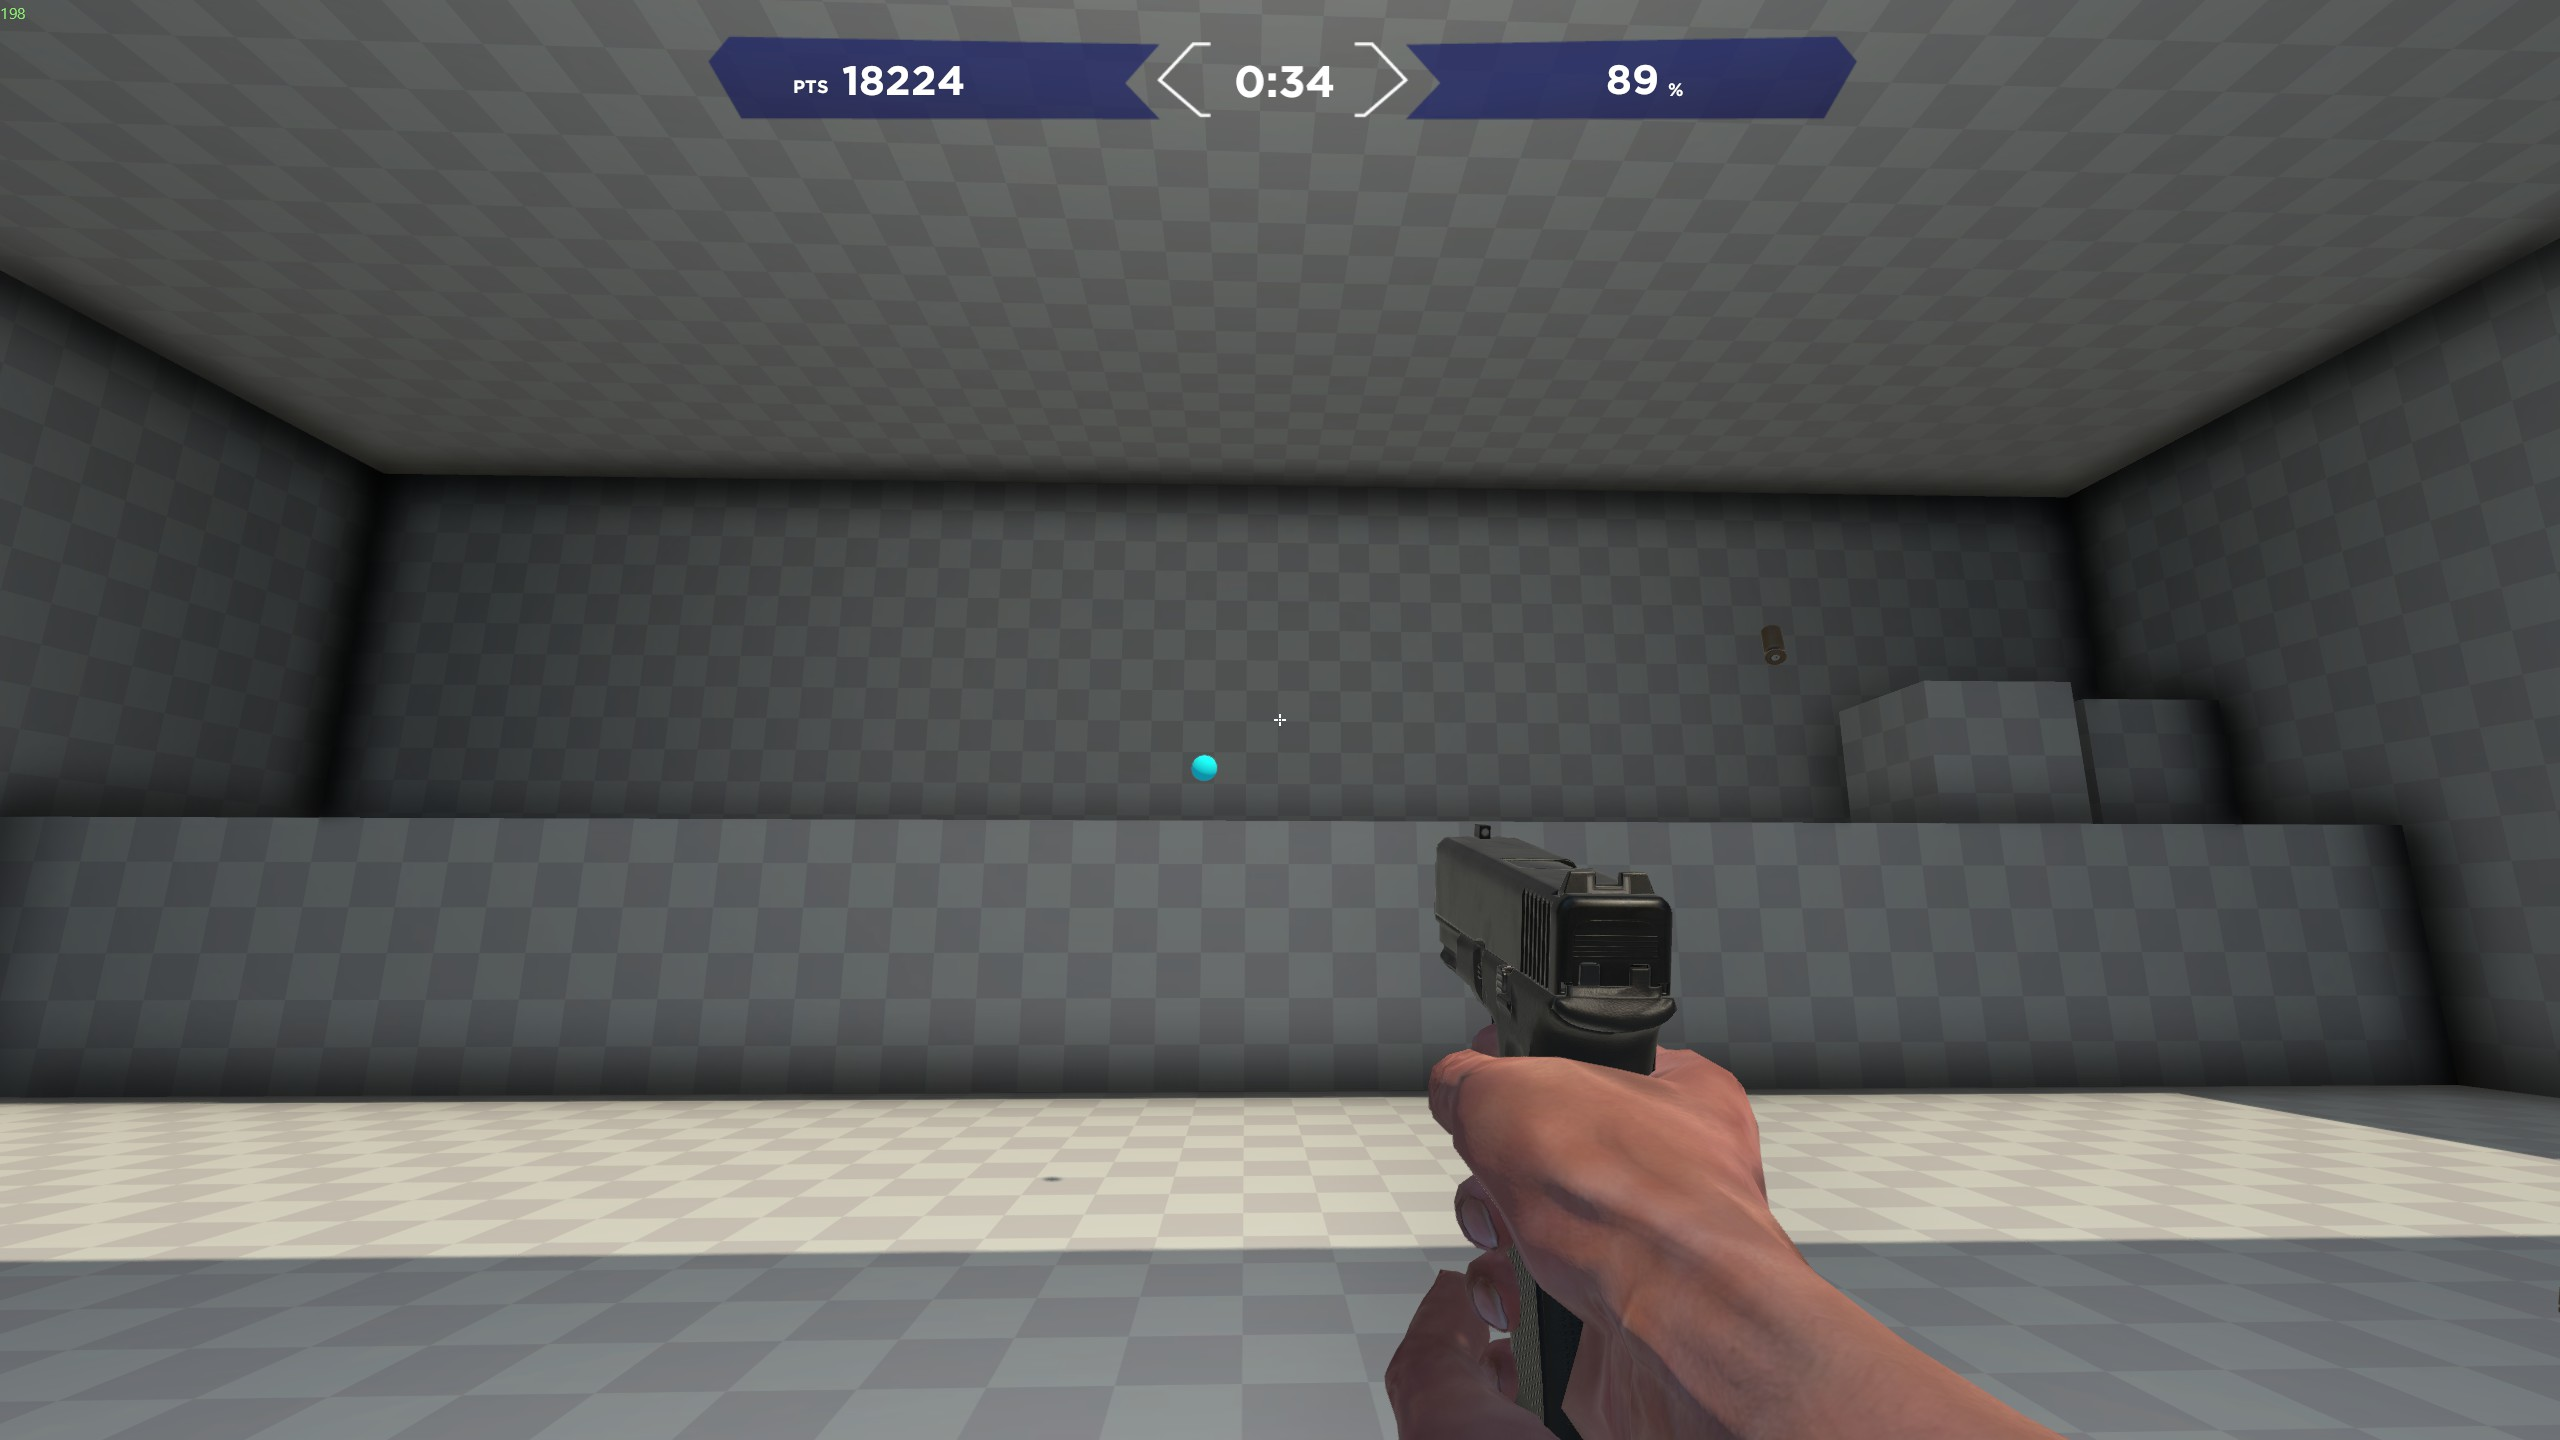Target: (1189, 754, 1227, 782)
